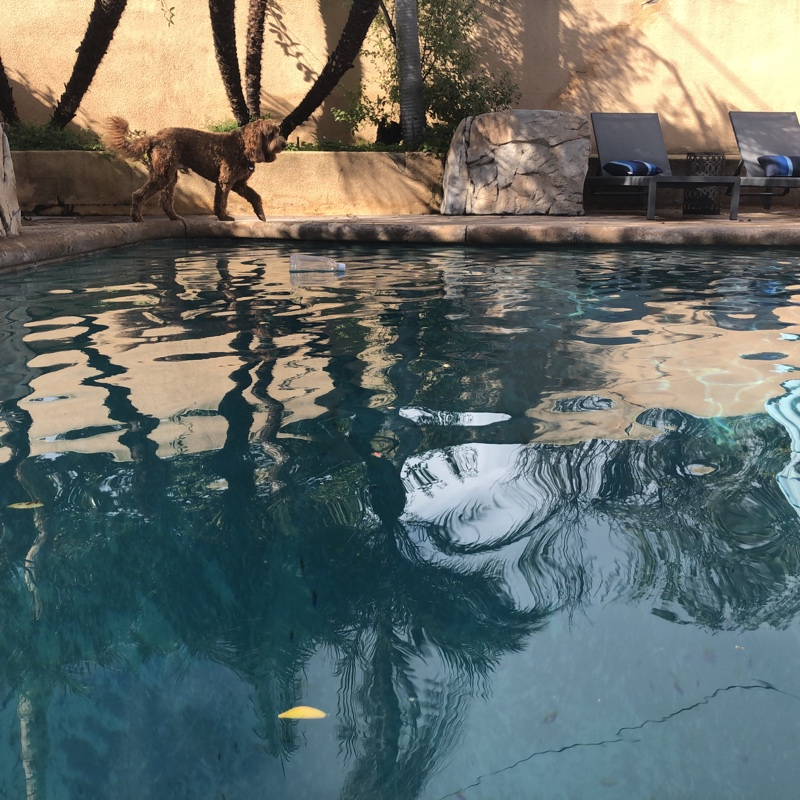Plastic Bottle: (285, 253, 348, 275)
